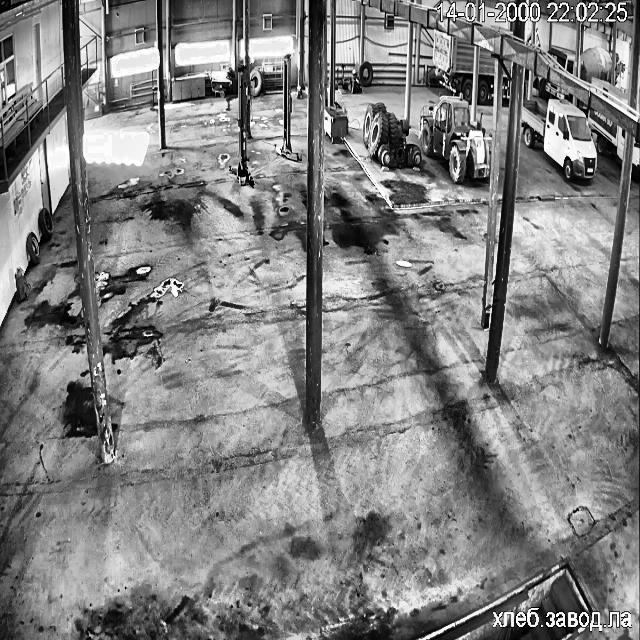car lift: (230, 67, 253, 186), (276, 54, 300, 161)
fire extinguisher: (16, 268, 29, 300)
tractor: (419, 96, 489, 182), (362, 102, 420, 166)
truck: (521, 100, 596, 180), (432, 28, 473, 101), (588, 108, 624, 158), (580, 46, 622, 83), (477, 46, 494, 102), (592, 80, 628, 102), (536, 77, 570, 99), (548, 45, 574, 73), (498, 60, 511, 99), (632, 138, 640, 179)
